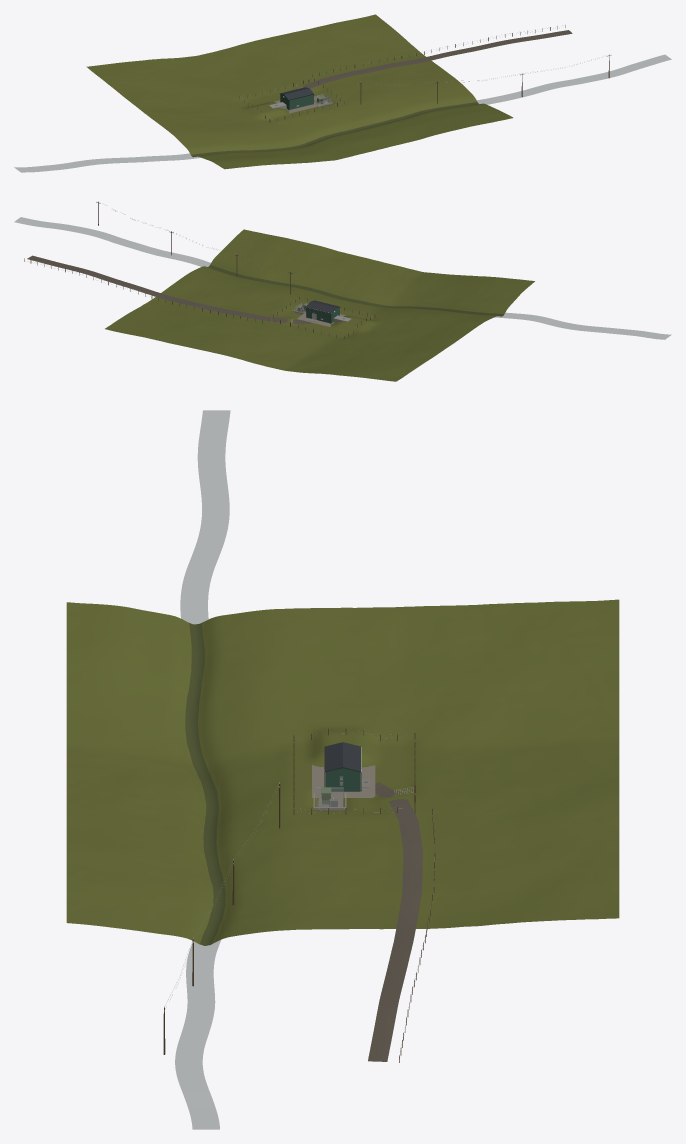
The model's file is bln_powerhouse.glb.
3 views of the same model, one above another, from view 1: azimuth 30°, elevation 25°; view 2: azimuth 150°, elevation 25°; view 3: azimuth 270°, elevation 25° (orthographic). The views are drawn at different scales.
Parts seen in each view (by area): view 1: terrain_web, burn_water, track; view 2: terrain_web, burn_water, track; view 3: terrain_web, burn_water, track.
Boxes of the visible parts, x1,y1,x2,y2 form: terrain_web: (86, 14, 513, 169); burn_water: (14, 55, 671, 172); track: (303, 30, 572, 88); terrain_web: (105, 229, 534, 381); burn_water: (15, 217, 670, 339); track: (27, 255, 311, 324); terrain_web: (66, 599, 619, 945); burn_water: (175, 410, 230, 1129); track: (368, 782, 422, 1061).
Size of what is drawn, in the model's own units: 260 by 17.05 by 96.
